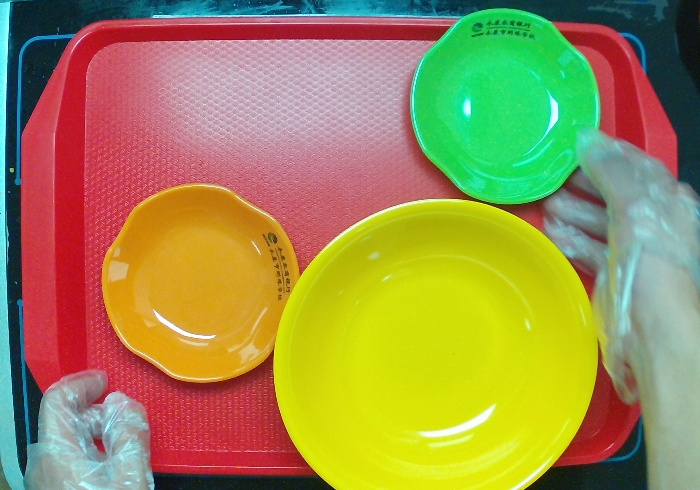YKMZ-Huang_Se_Tang_Wan: (269, 192, 604, 490)
YKMZ-Ju_Se_Ao_Bian_Wan: (90, 176, 306, 390)
YKMZ-Lv_Se_Ao_Bian_Wan: (401, 3, 604, 213)
